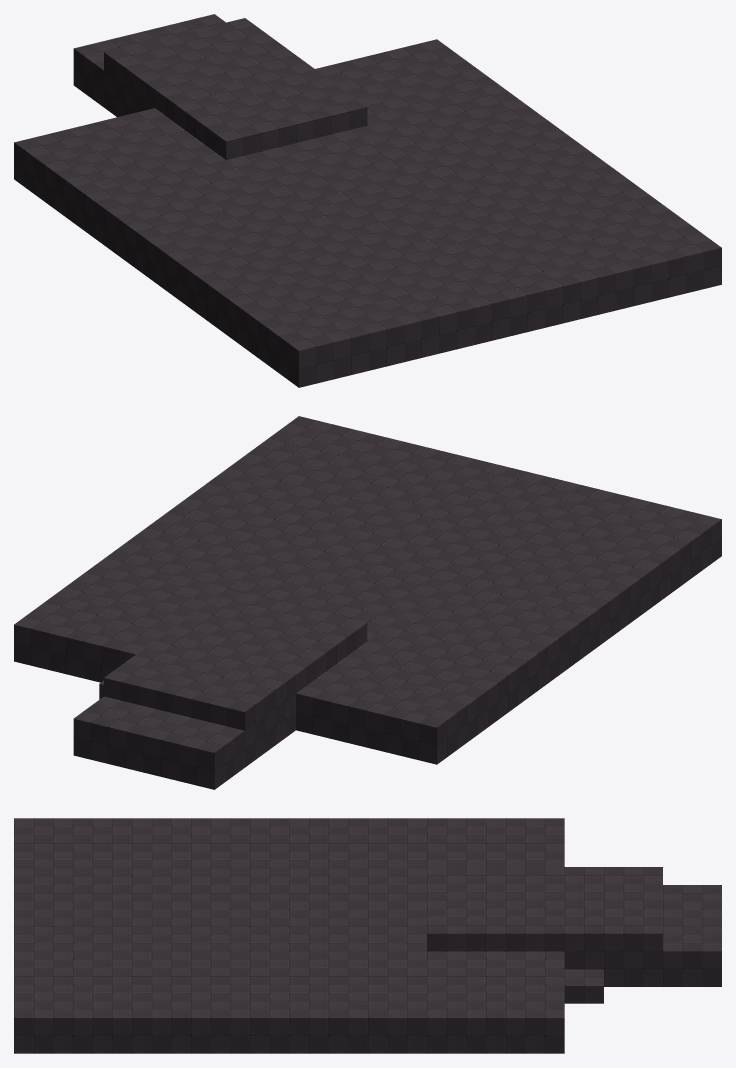
File: sample_ground.fbx
3 views of the same model, one above another, from view 1: azimuth 30°, elevation 25°; view 2: azimuth 150°, elevation 25°; view 3: azimuth 270°, elevation 25° (orthographic). The views are drawn at different scales.
Visible parts, largest first — view 1: sample_ground; view 2: sample_ground; view 3: sample_ground.
Boxes of the visible parts, left/top/right/bottom form: sample_ground: left=14, top=14, right=721, bottom=387; sample_ground: left=14, top=416, right=721, bottom=789; sample_ground: left=14, top=818, right=721, bottom=1053.
Bounding box in the file's own units: 2400 × 300 × 3600.
